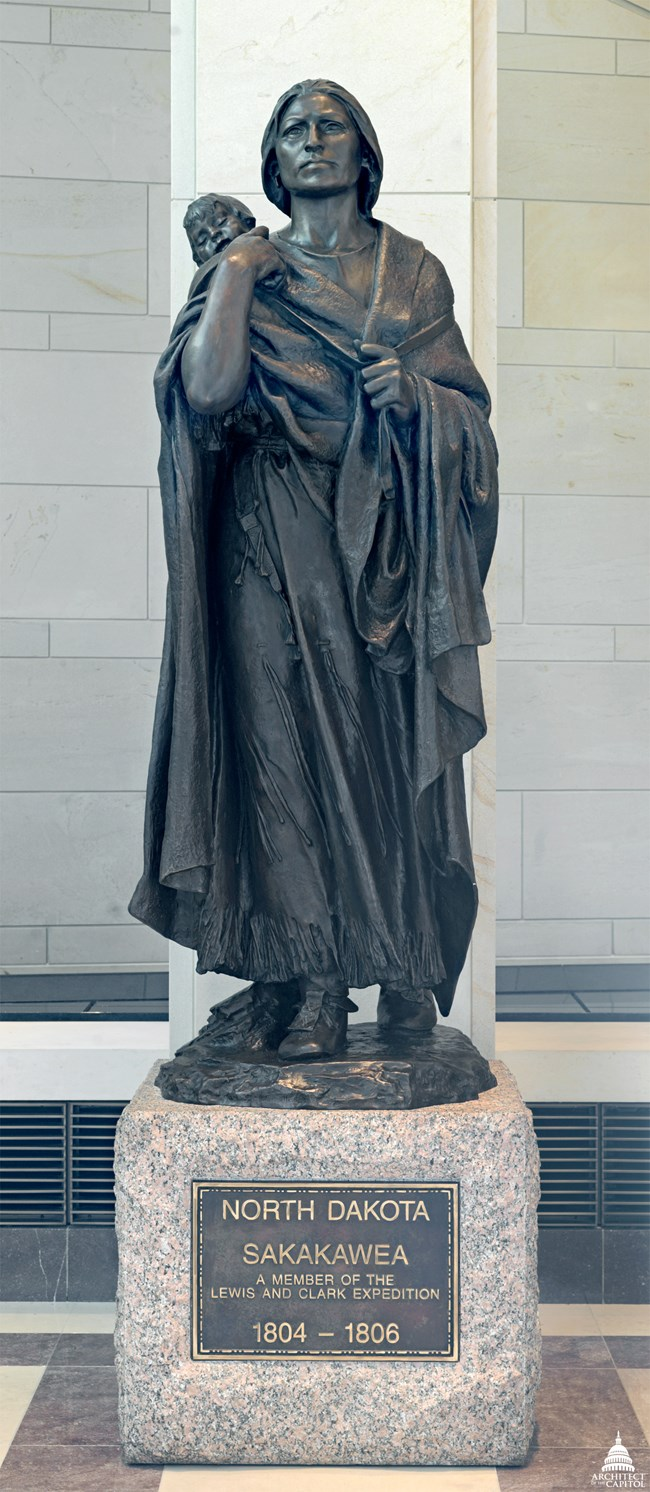person-like: (122, 71, 515, 1068), (176, 184, 263, 279)
